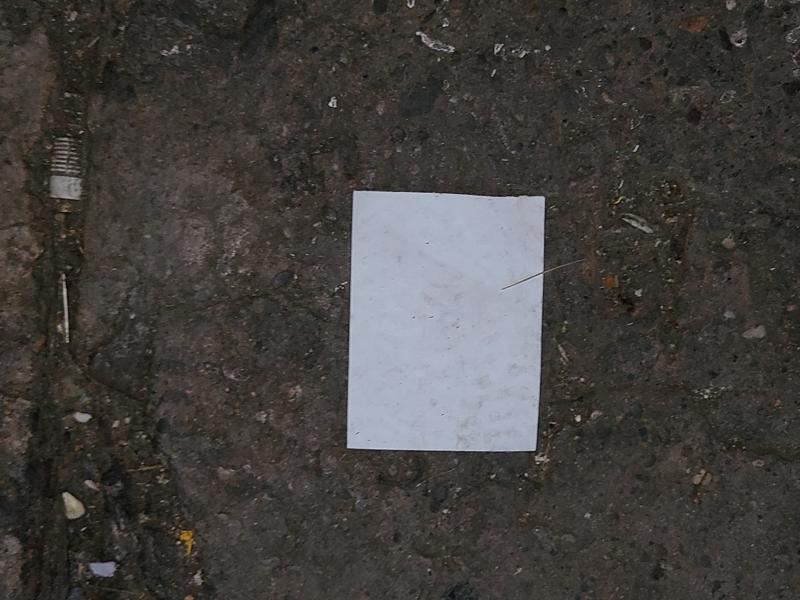papel: (345, 192, 546, 454)
